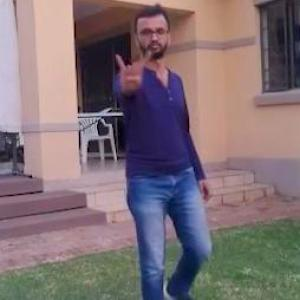takeoff-hand: (105, 43, 155, 99)
